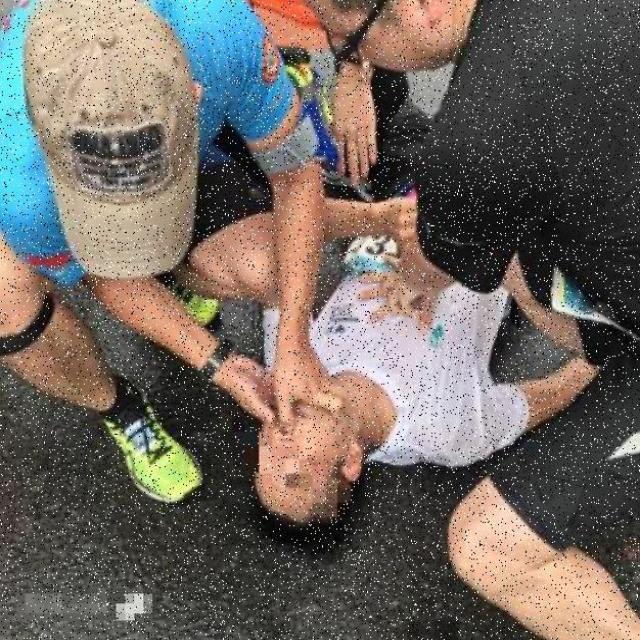fall: (258, 247, 528, 542)
